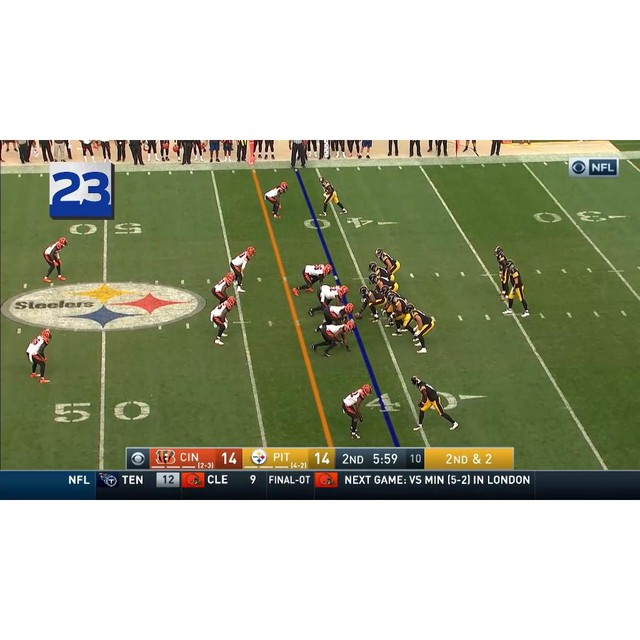american-football-player: (410, 375, 458, 432), (309, 321, 355, 357), (342, 385, 371, 440), (405, 303, 435, 355), (26, 328, 53, 383), (503, 262, 530, 316), (210, 296, 238, 345), (309, 284, 349, 317), (292, 265, 332, 297), (229, 246, 255, 294), (313, 302, 353, 332), (389, 292, 415, 337), (318, 175, 347, 215), (43, 236, 68, 282), (494, 246, 514, 299), (356, 285, 383, 322), (265, 181, 288, 219), (374, 247, 399, 278), (211, 272, 237, 301), (369, 272, 398, 292)
referee: (290, 140, 308, 169)
